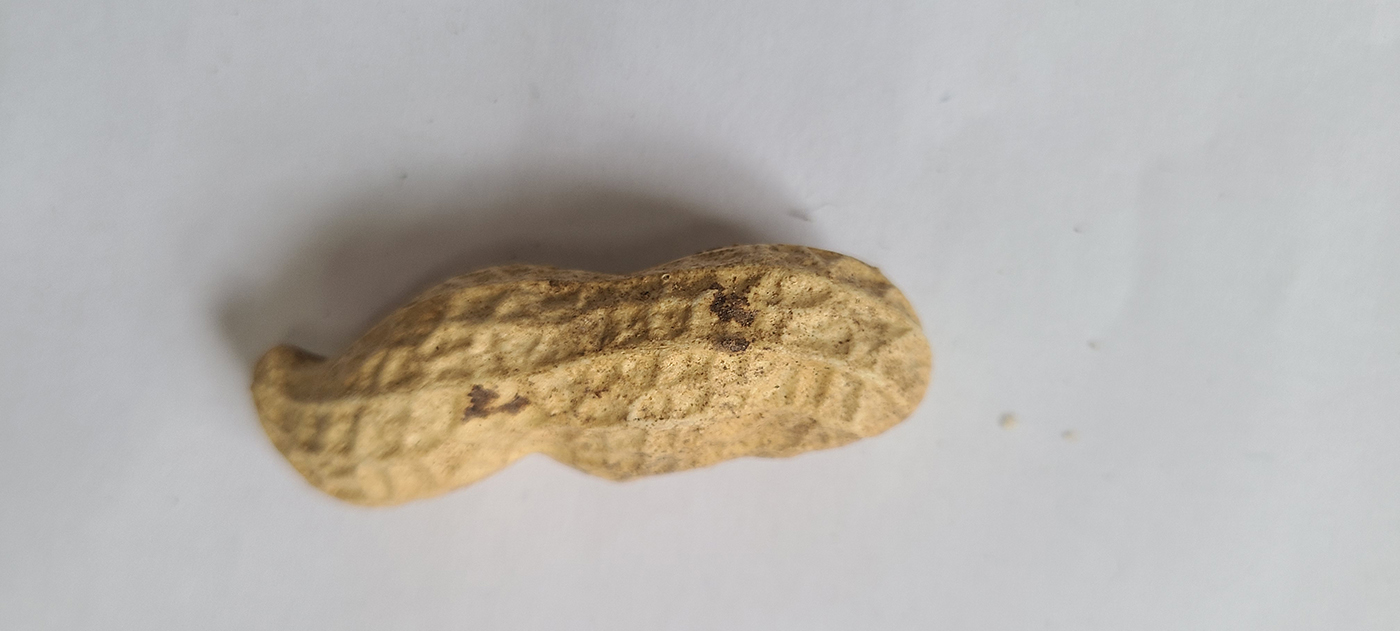h: (249, 242, 934, 510)
